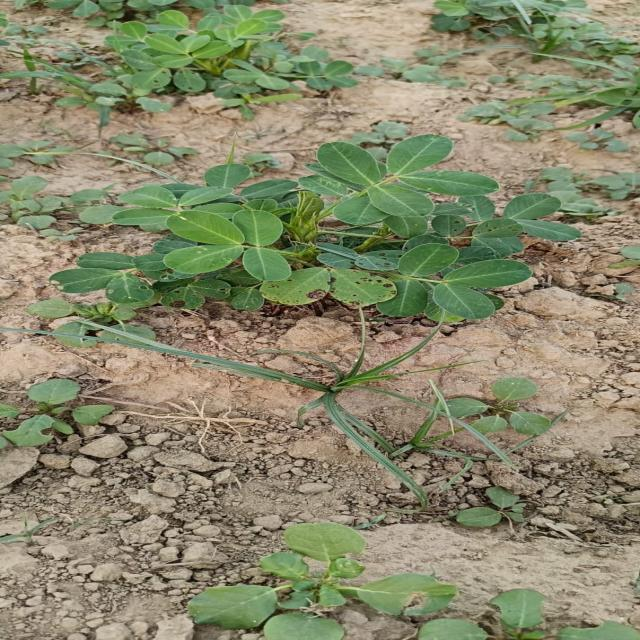weed: (165, 210, 244, 245)
